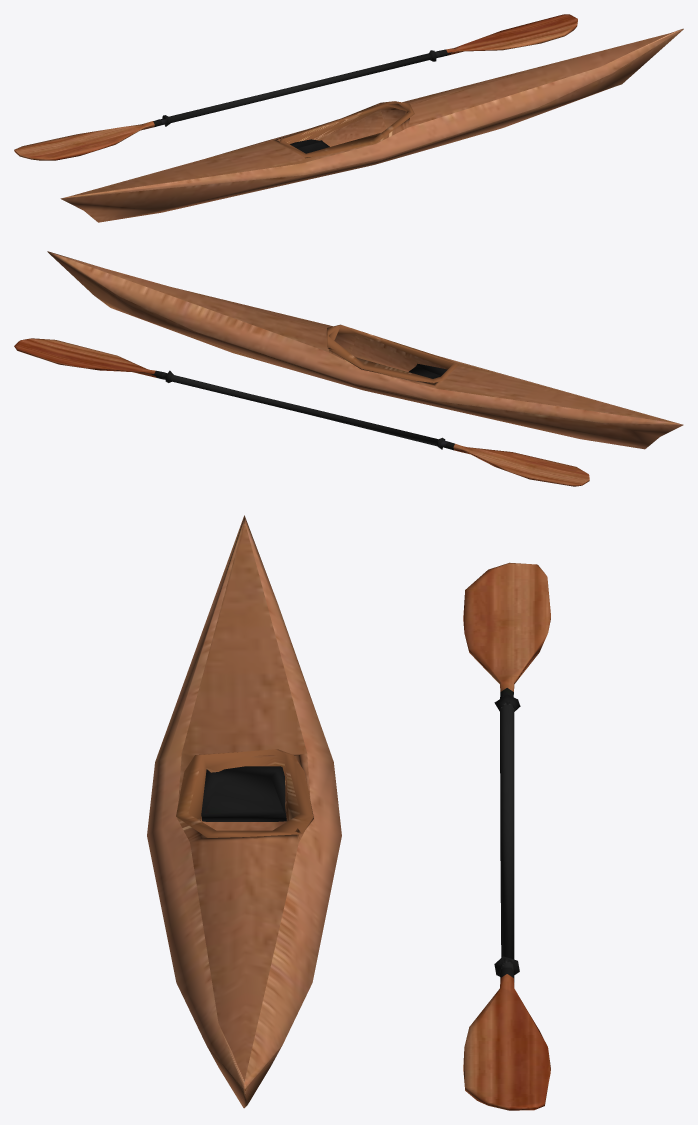
The model's file is kayak.glb.
3 renders of one model, top to bottom at view 1: azimuth 30°, elevation 25°; view 2: azimuth 150°, elevation 25°; view 3: azimuth 270°, elevation 25°, orthographic. The views are drawn at different scales.
Parts seen in each view (by area): view 1: Kayak_LP, Paddle_LPS; view 2: Kayak_LP, Paddle_LPS; view 3: Kayak_LP, Paddle_LPS.
Part boxes in pixels (x1,y1,x2,y2): Kayak_LP: [60, 28, 683, 222]; Paddle_LPS: [14, 14, 577, 160]; Kayak_LP: [47, 251, 683, 449]; Paddle_LPS: [14, 338, 589, 486]; Kayak_LP: [147, 515, 341, 1108]; Paddle_LPS: [463, 562, 550, 1110].
Bounding box in the file's own units: 1 × 0.0865 × 0.2807.
2 materials, 2 textured.
